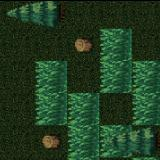Obstacle: (67, 27, 99, 59), (36, 124, 66, 157), (35, 0, 67, 28), (132, 125, 160, 157)
Slow: (68, 92, 100, 160), (35, 60, 67, 124), (100, 28, 132, 92), (132, 60, 160, 123), (99, 124, 132, 156)
